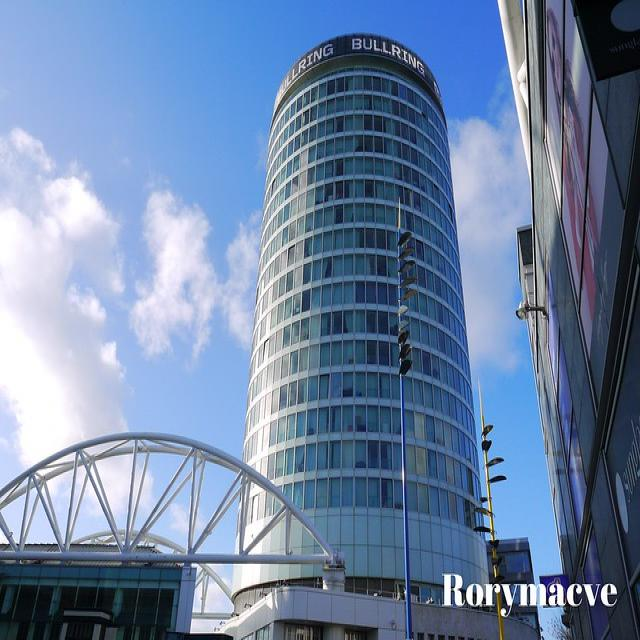Normal_building: (237, 31, 502, 638)
